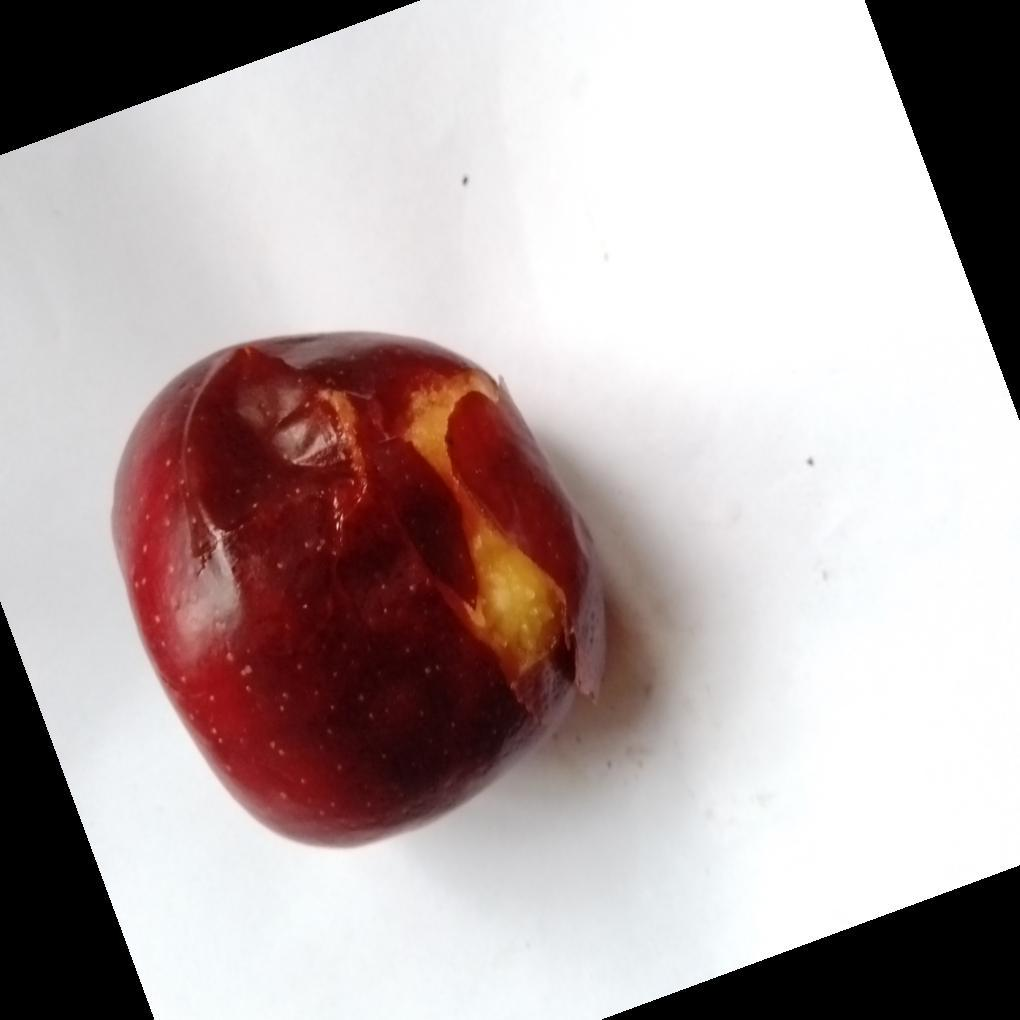FreshOrange: (108, 331, 607, 854)
